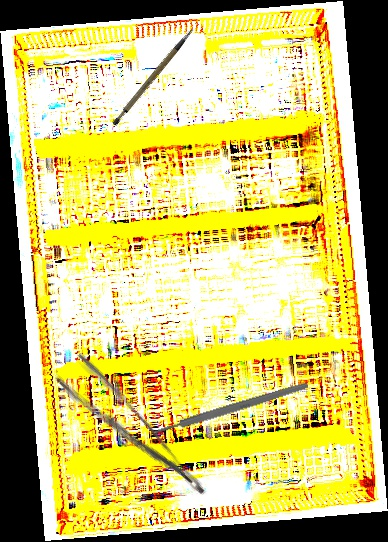Dressing Forceps: (52, 349, 211, 519)
Scalpel Handle: (101, 27, 208, 128), (154, 380, 309, 437)
